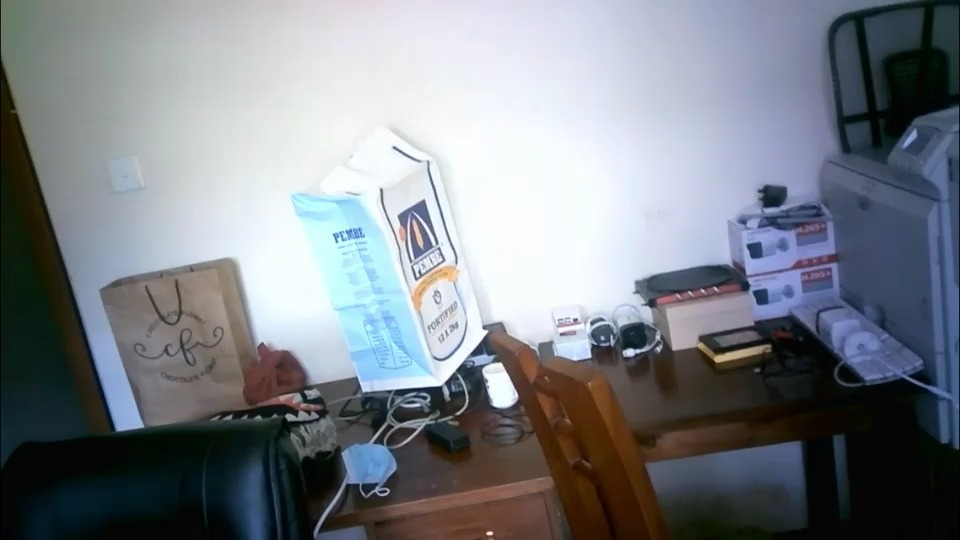wheat_flour_blue_label: (288, 126, 485, 392)
